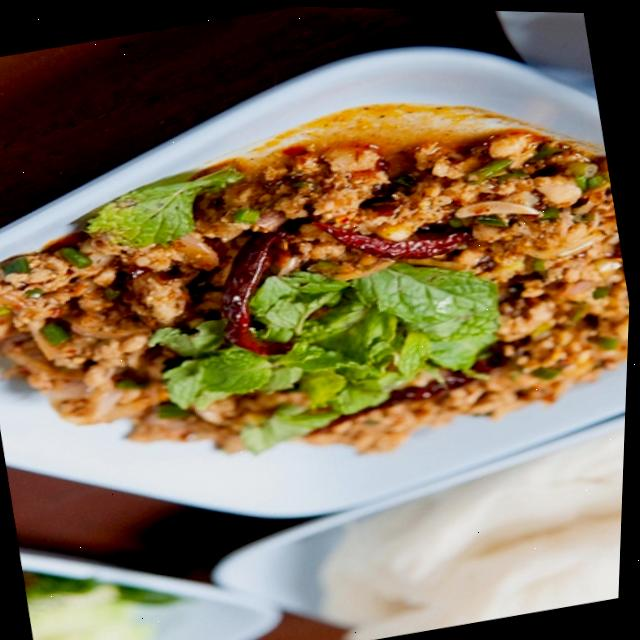鸡肉料理 含炸鸡: (0, 2, 640, 565)
